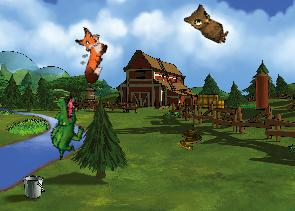crocodile: (40, 93, 91, 160)
fox: (64, 25, 113, 85)
owl: (181, 0, 235, 45)
